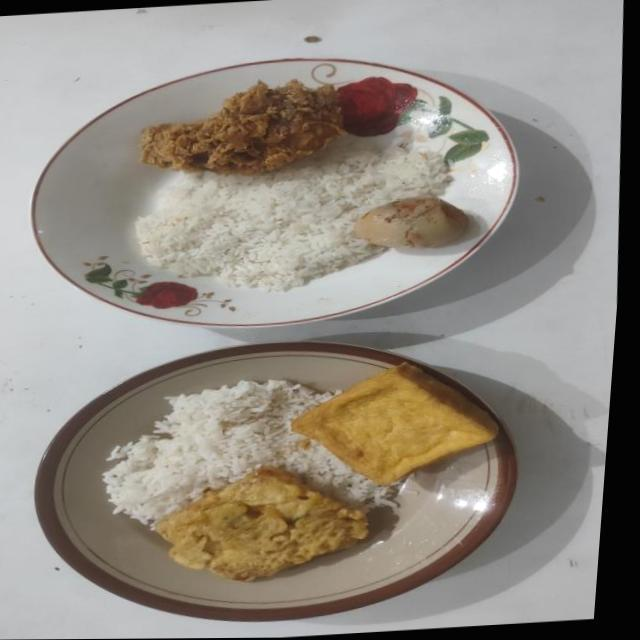nasi_putih: (136, 148, 450, 292), (102, 380, 396, 524)
tahu_goreng: (292, 362, 498, 485)
